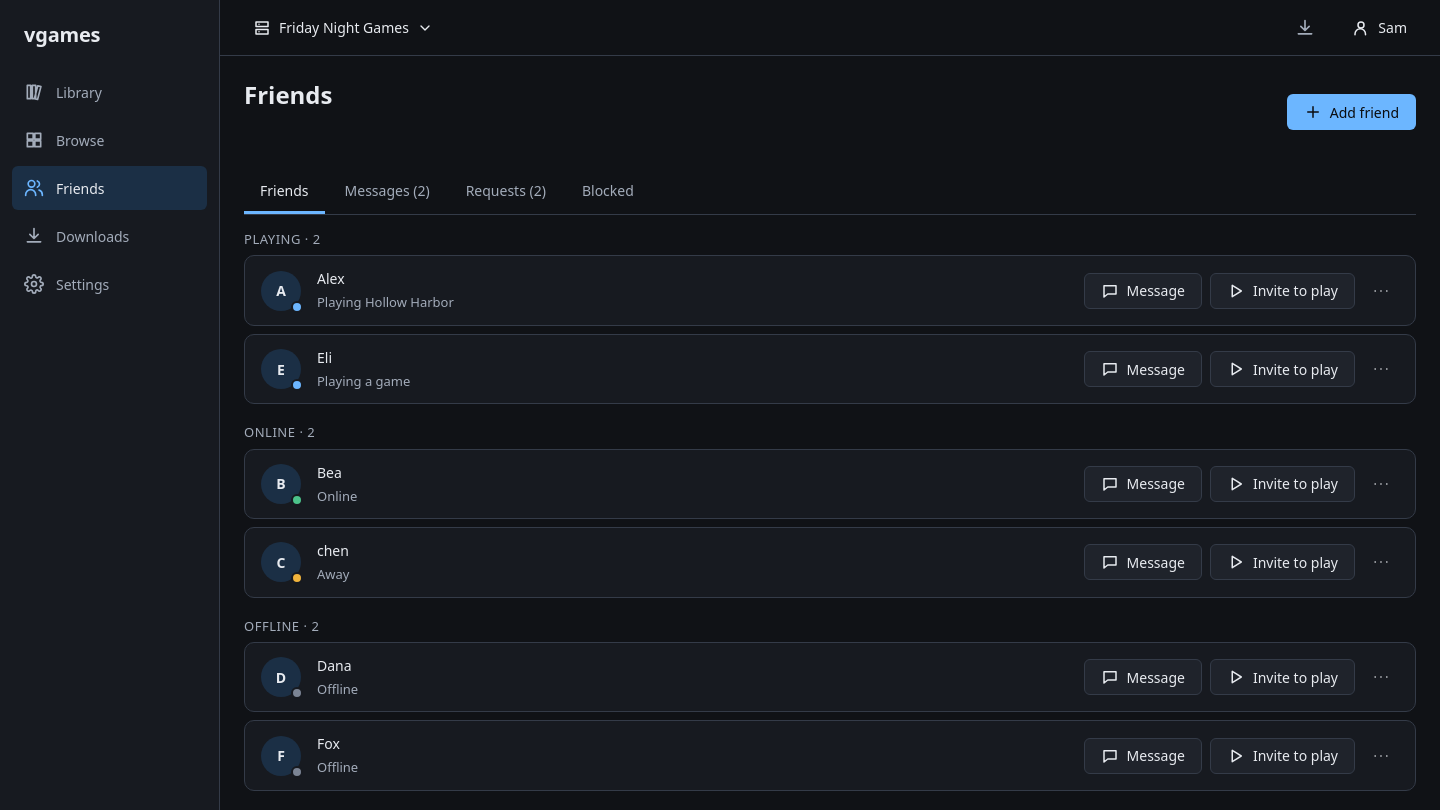
Test: add friend › says when the code has expired and offers a new one
Click the button "Add friend": x=1351, y=112 [1287,94,1416,130]
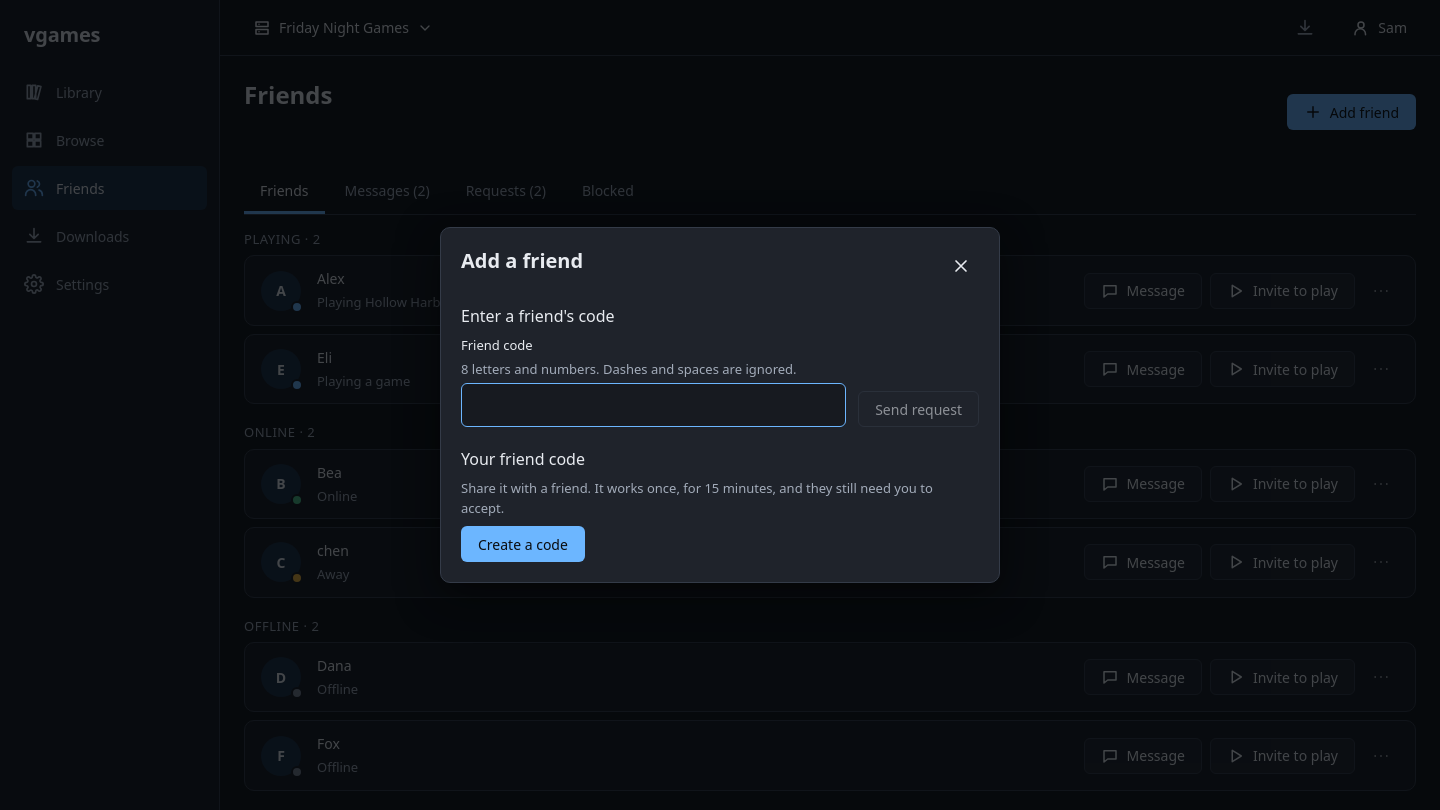
Click the button "Create a code": x=523, y=544 [461,526,585,562]
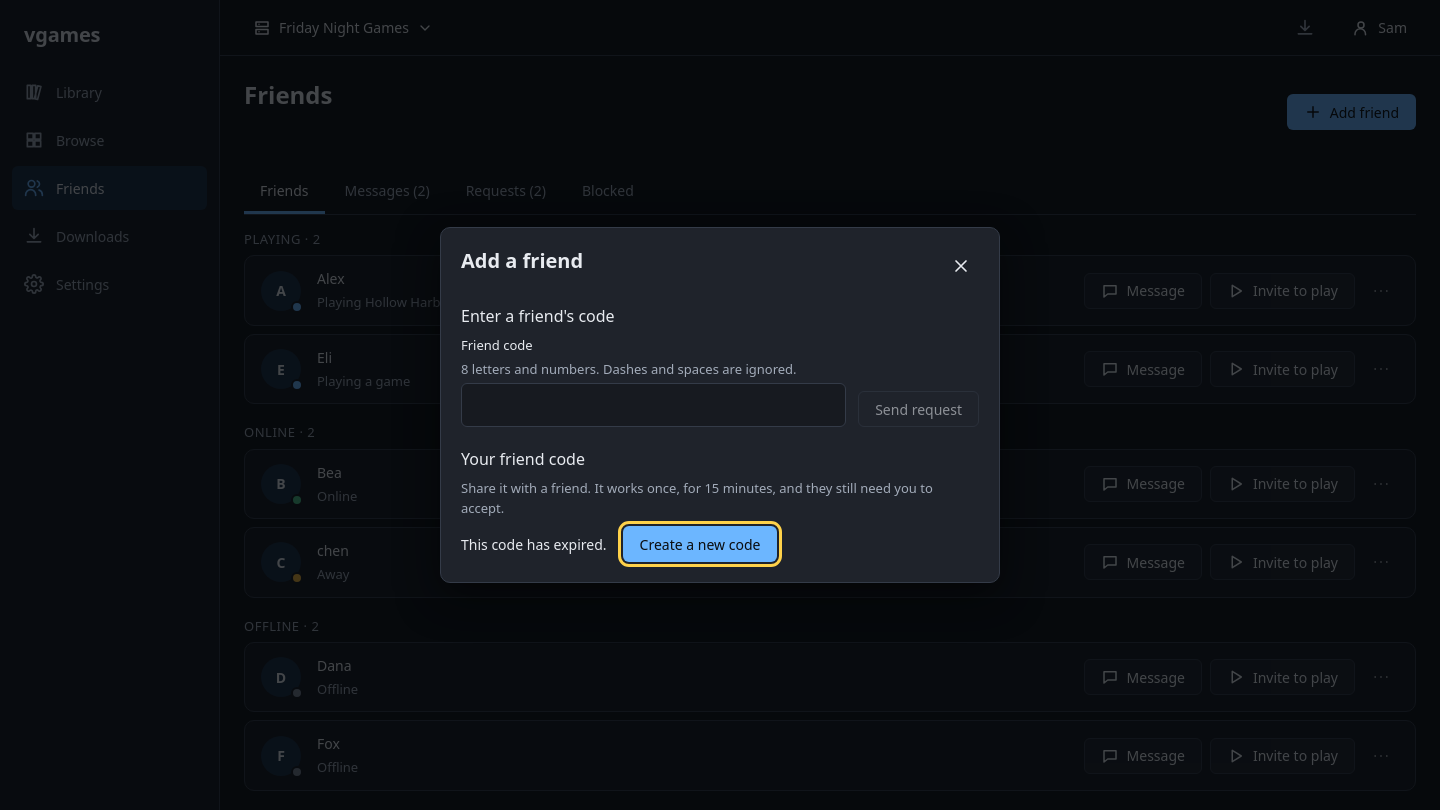
Now the text "This code has expired." is shown, box [461,534,607,554]
Now the button "Create a new code" is shown, box [623,526,777,562]
